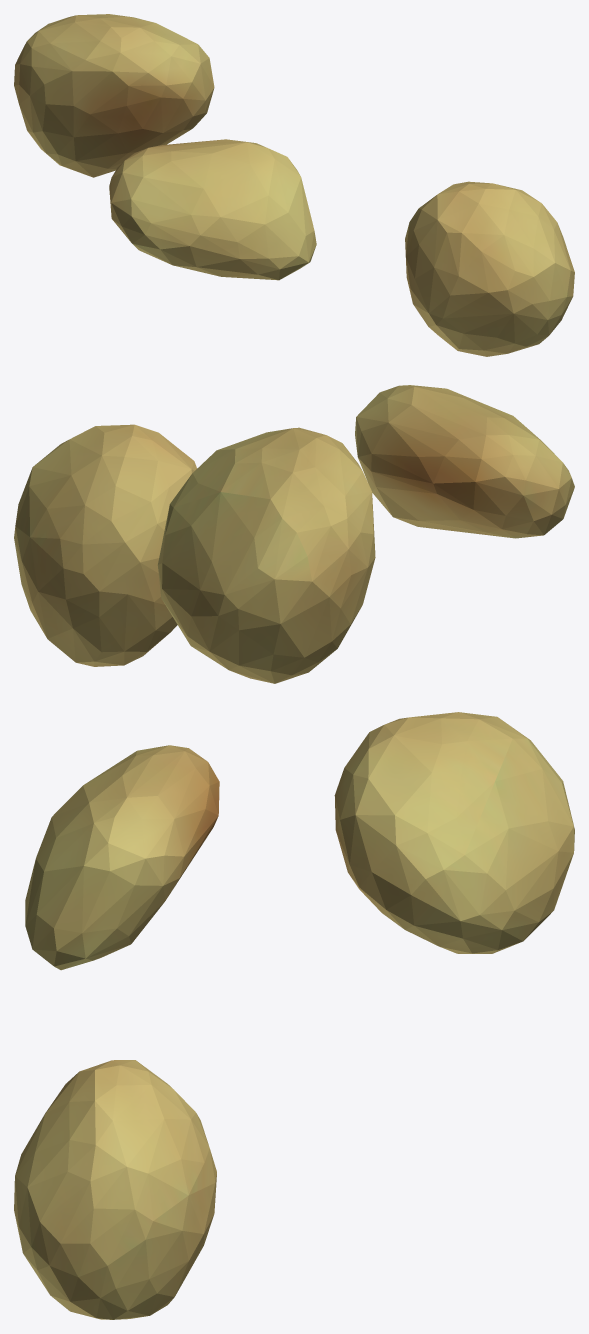
Rendered from nodes_lymph_splenic_LP.glb.
3 views of the same model, one above another, from view 1: azimuth 30°, elevation 25°; view 2: azimuth 150°, elevation 25°; view 3: azimuth 270°, elevation 25° (orthographic). The views are drawn at different scales.
Visible parts, largest first — view 1: nodes_lymph_splenic_LP; view 2: nodes_lymph_splenic_LP; view 3: nodes_lymph_splenic_LP.
Part boxes in pixels (x1,y1,x2,y2): nodes_lymph_splenic_LP: [14, 14, 574, 356]; nodes_lymph_splenic_LP: [14, 385, 574, 683]; nodes_lymph_splenic_LP: [14, 712, 574, 1319].
Size of the model in its own units: 0.000632 by 0.000441 by 0.000533.
Materials: 1 (1 with a texture image).
